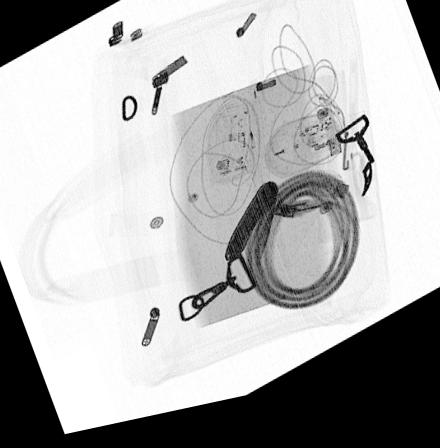Knife: (221, 192, 279, 274)
